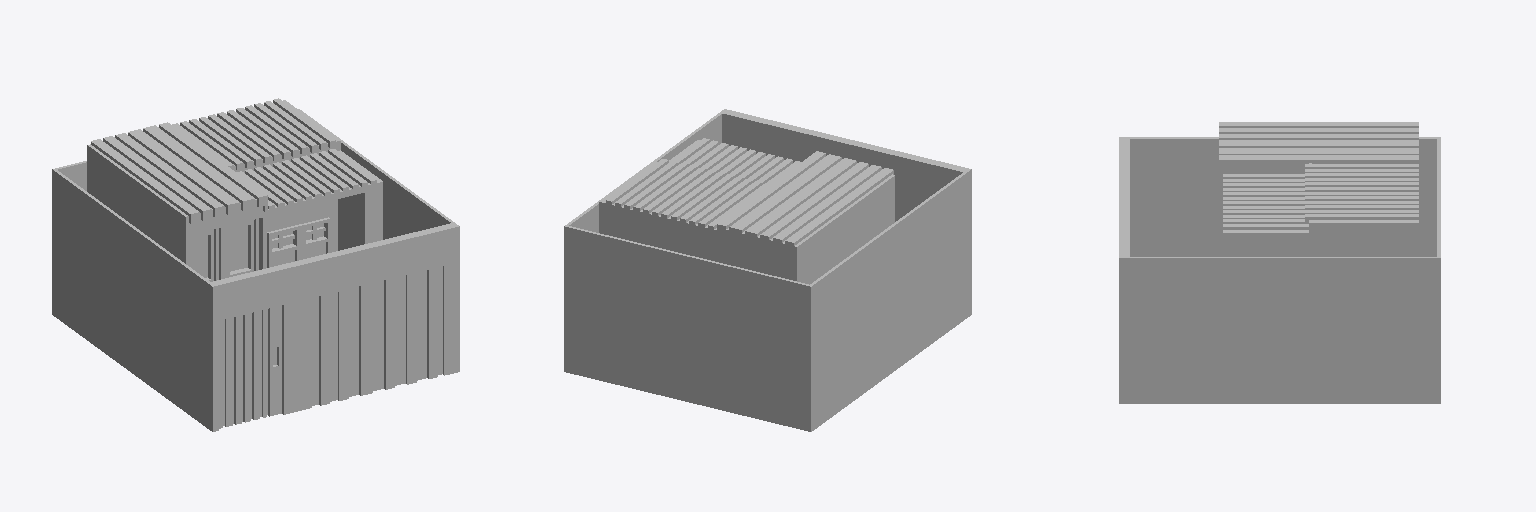
Rendered from House4.obj.
The picture shows the model from 3 angles: view 1: azimuth 30°, elevation 25°; view 2: azimuth 150°, elevation 25°; view 3: azimuth 270°, elevation 25°; orthographic projection.
Size of the model in its own units: 80 by 54 by 90.